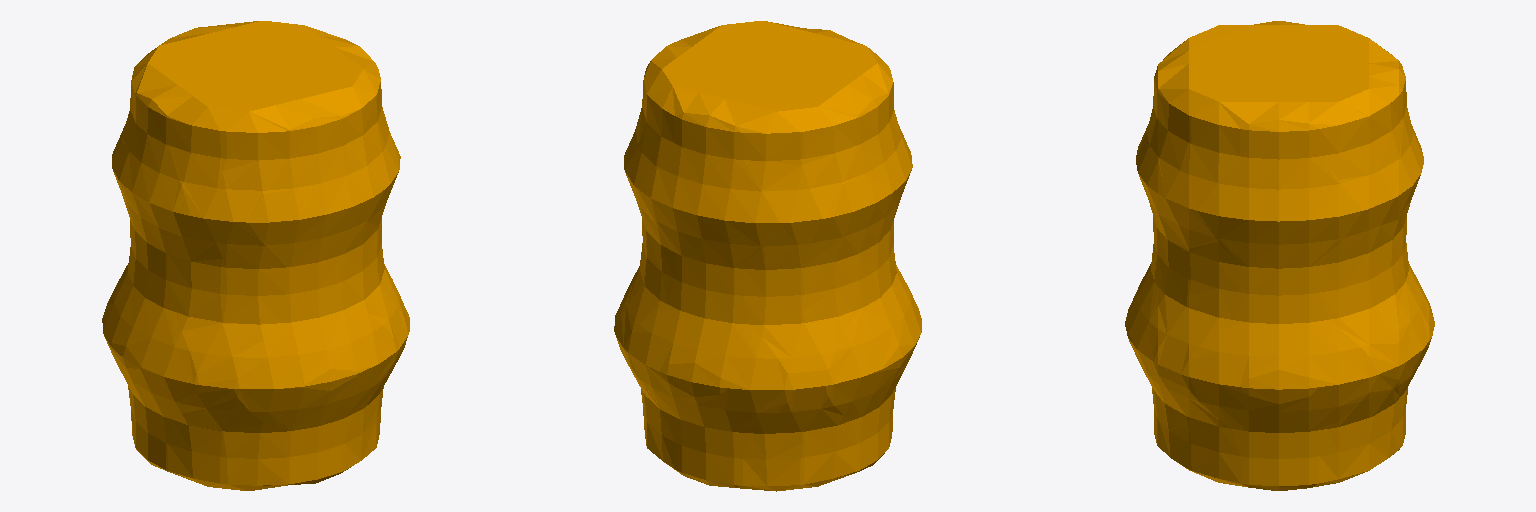
URDF robot description (cylinder_../../meshes/cylinders/cylinder_61.stl):
<?xml version="1.0" encoding="utf-8"?>  <robot name="cylinder_../../meshes/cylinders/cylinder_61.stl">   <link name="cylinder_../../meshes/cylinders/cylinder_61.stl">     <visual>       <geometry>         <mesh filename="../meshes/cylinders/cylinder_61.stl" scale="1 1 1"/>       </geometry>     </visual>     <collision>       <geometry>         <mesh filename="../meshes/cylinders/cylinder_61.stl" scale="1 1 1"/>       </geometry>     </collision>     <inertial>        <origin         xyz="0 0 0"         rpy="0 0 0" />       <mass value="0.10692655655094331"/>       <origin rpy="0 0 0" xyz="0 0 0"/>       <inertia ixx="5.3756437000839905e-05" ixy="-2.0779926680782947e-09" ixz="8.624211151872343e-09" iyy="5.375664181604303e-05" iyz="8.19812271420731e-09" izz="2.659883132588178e-05"/>     </inertial>   </link>  </robot>

--- What the picture shows (computed from the rendered views, not written in the file) ---
The picture shows the robot from 3 angles, left to right: view 1: azimuth 30°, elevation 25°; view 2: azimuth 150°, elevation 25°; view 3: azimuth 270°, elevation 25°; orthographic projection.
Robot: cylinder_../../meshes/cylinders/cylinder_61.stl — 1 links, 0 joints (none); root link cylinder_../../meshes/cylinders/cylinder_61.stl; default pose: every joint at zero.
Links seen in each view (by area): view 1: cylinder_../../meshes/cylinders/cylinder_61.stl; view 2: cylinder_../../meshes/cylinders/cylinder_61.stl; view 3: cylinder_../../meshes/cylinders/cylinder_61.stl.
Link boxes in pixels (x1,y1,x2,y2): cylinder_../../meshes/cylinders/cylinder_61.stl: [102, 21, 409, 490]; cylinder_../../meshes/cylinders/cylinder_61.stl: [614, 21, 921, 491]; cylinder_../../meshes/cylinders/cylinder_61.stl: [1125, 21, 1434, 490].
Size in the robot's own frame: 0.0516 by 0.0516 by 0.0699 metres.
1 mesh visuals loaded from 1 distinct referenced files (1 binary STL).